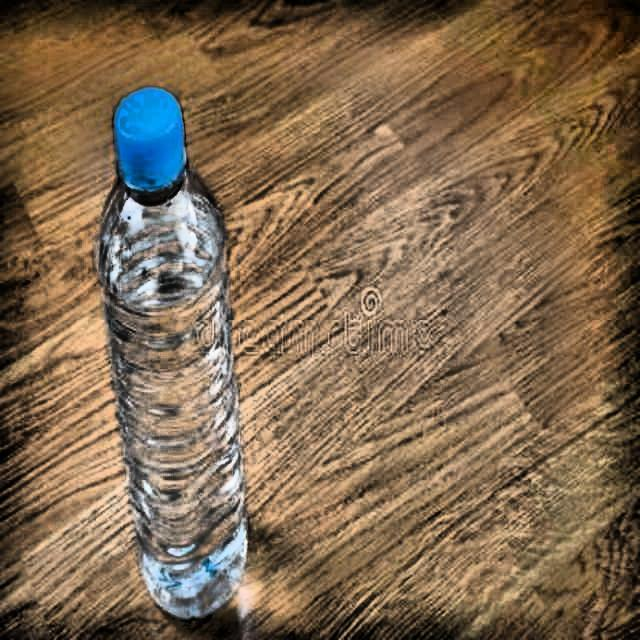Bottles: (92, 86, 263, 623)
